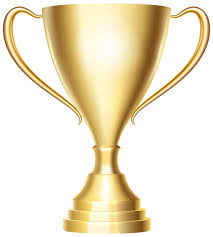trophy: (2, 3, 211, 237)
